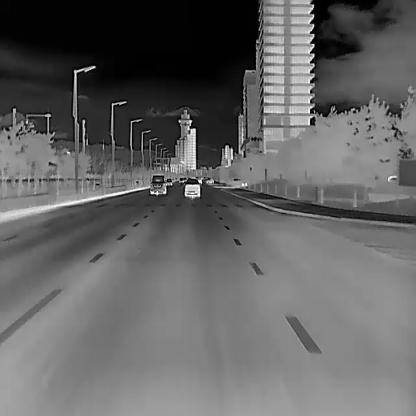car: (149, 173, 166, 194), (184, 176, 200, 198), (166, 178, 172, 184)
